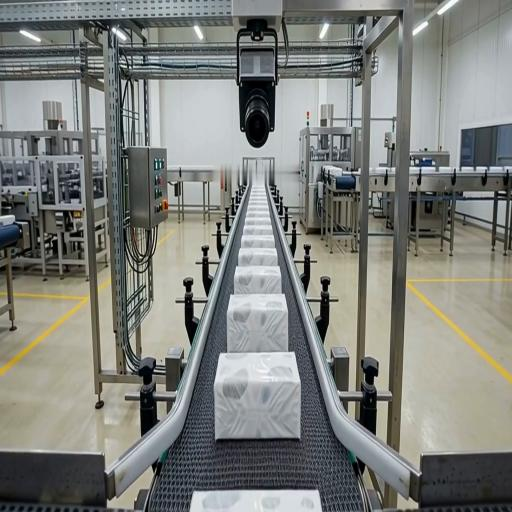good: (214, 351, 301, 441), (225, 293, 288, 354), (190, 487, 321, 511), (231, 264, 282, 296), (235, 249, 279, 272), (241, 202, 275, 226), (239, 235, 277, 251), (241, 222, 275, 237), (246, 185, 270, 196)
